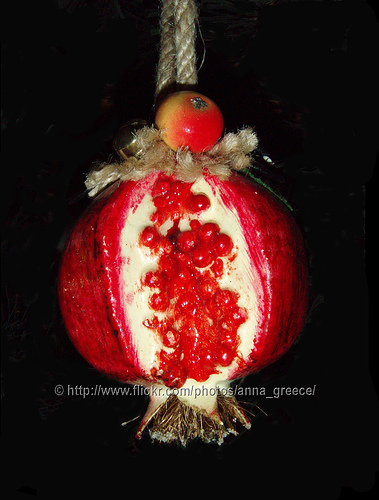pomogranate: (60, 155, 308, 446)
